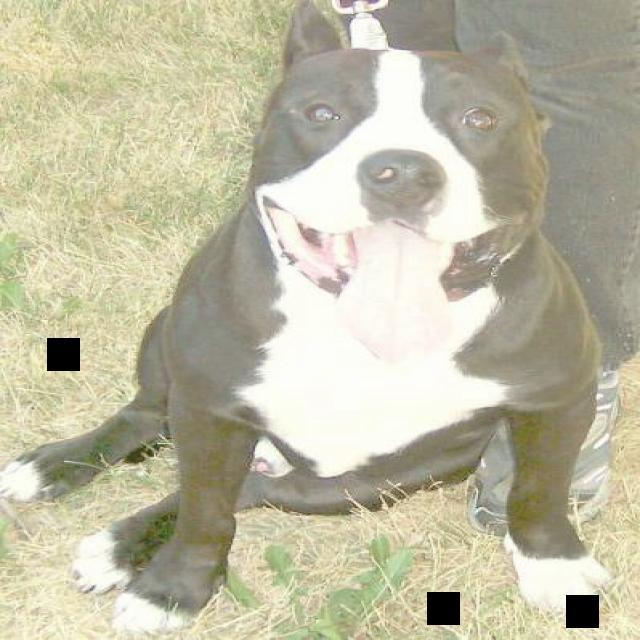adult_dog: (1, 1, 620, 629)
